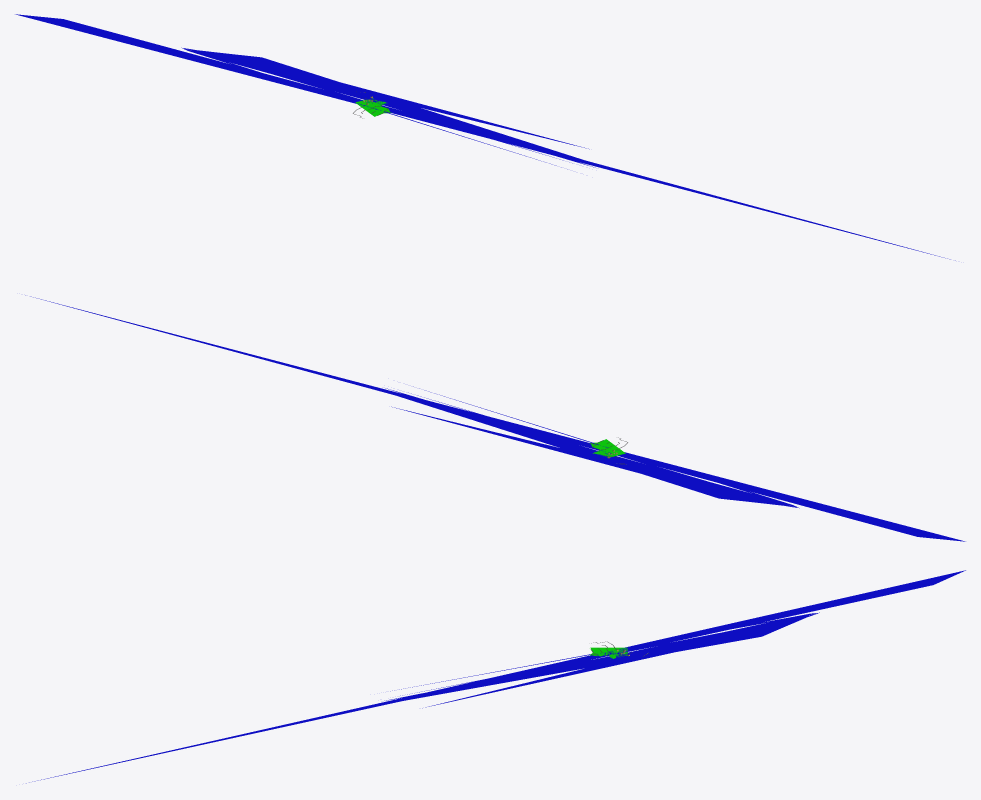
3 renders of one model, top to bottom at view 1: azimuth 30°, elevation 25°; view 2: azimuth 210°, elevation 25°; view 3: azimuth 270°, elevation 25°, orthographic. The views are drawn at different scales.
Size of the model in its own units: 2781 by 7.5 by 5186.
